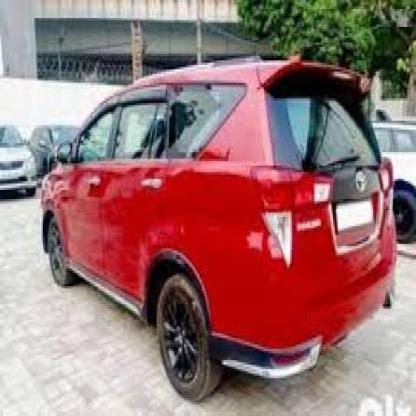car: (25, 45, 404, 401)
